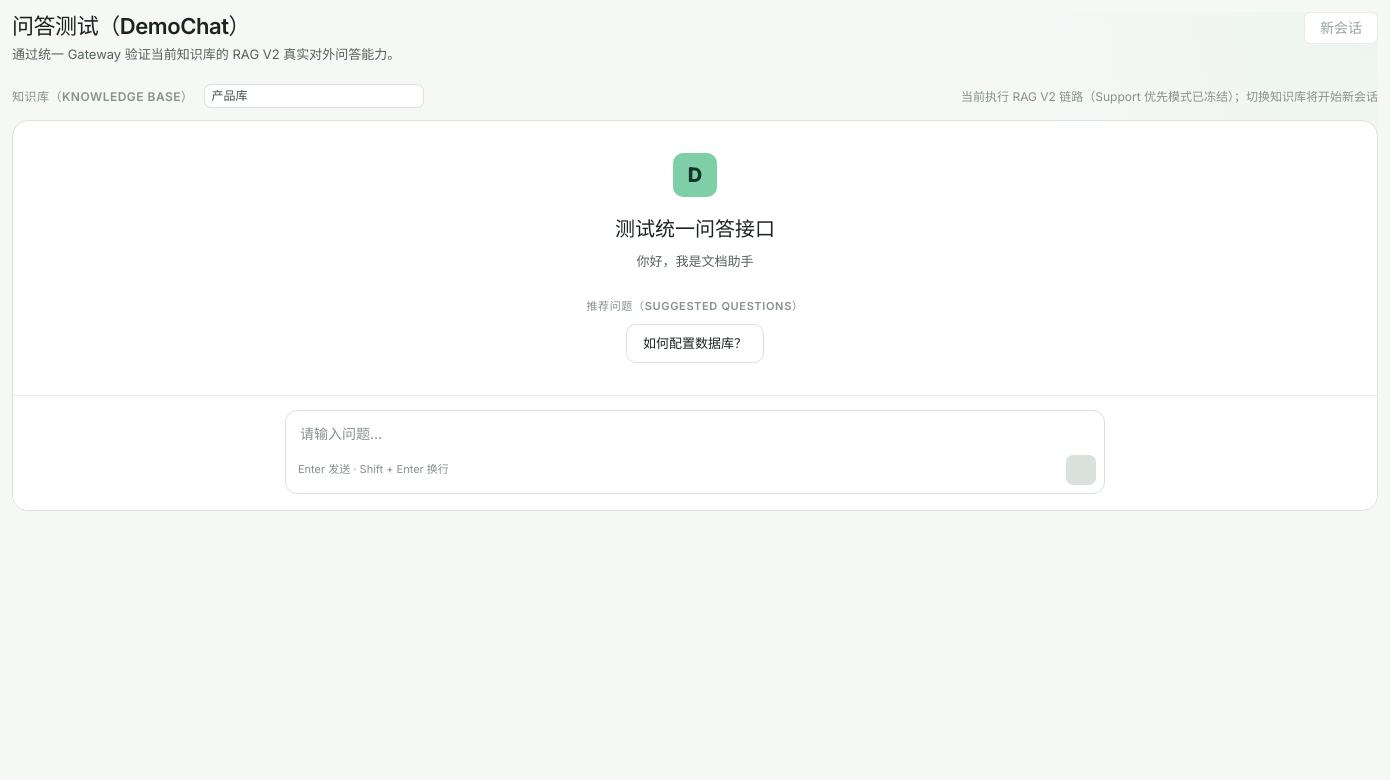
Test case: DemoChat › shows the actual engine and automatic fallback reason
In the text box with placeholder "请输入问题…": (695, 430) [286,411,1104,449], type "未知问题"
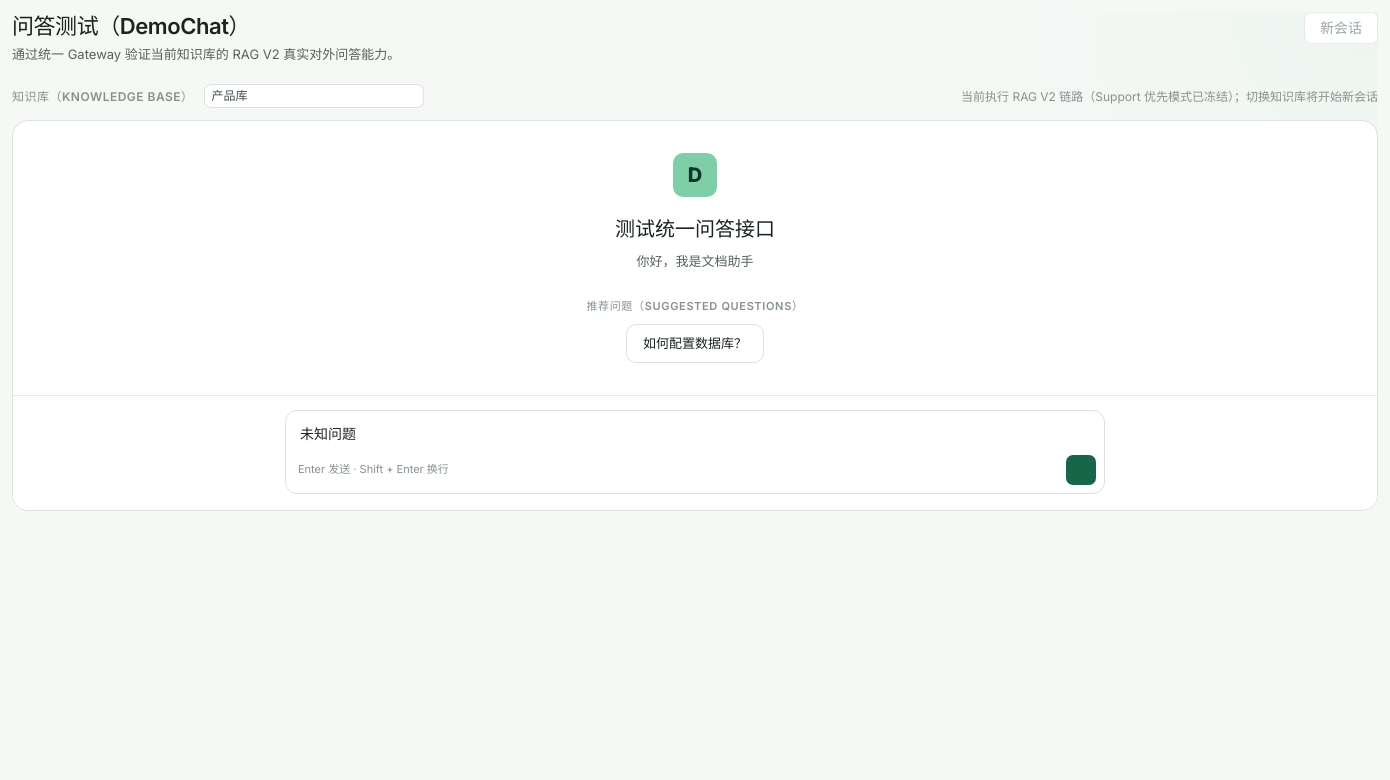
Press Enter in the text box, box [286,411,1104,449]
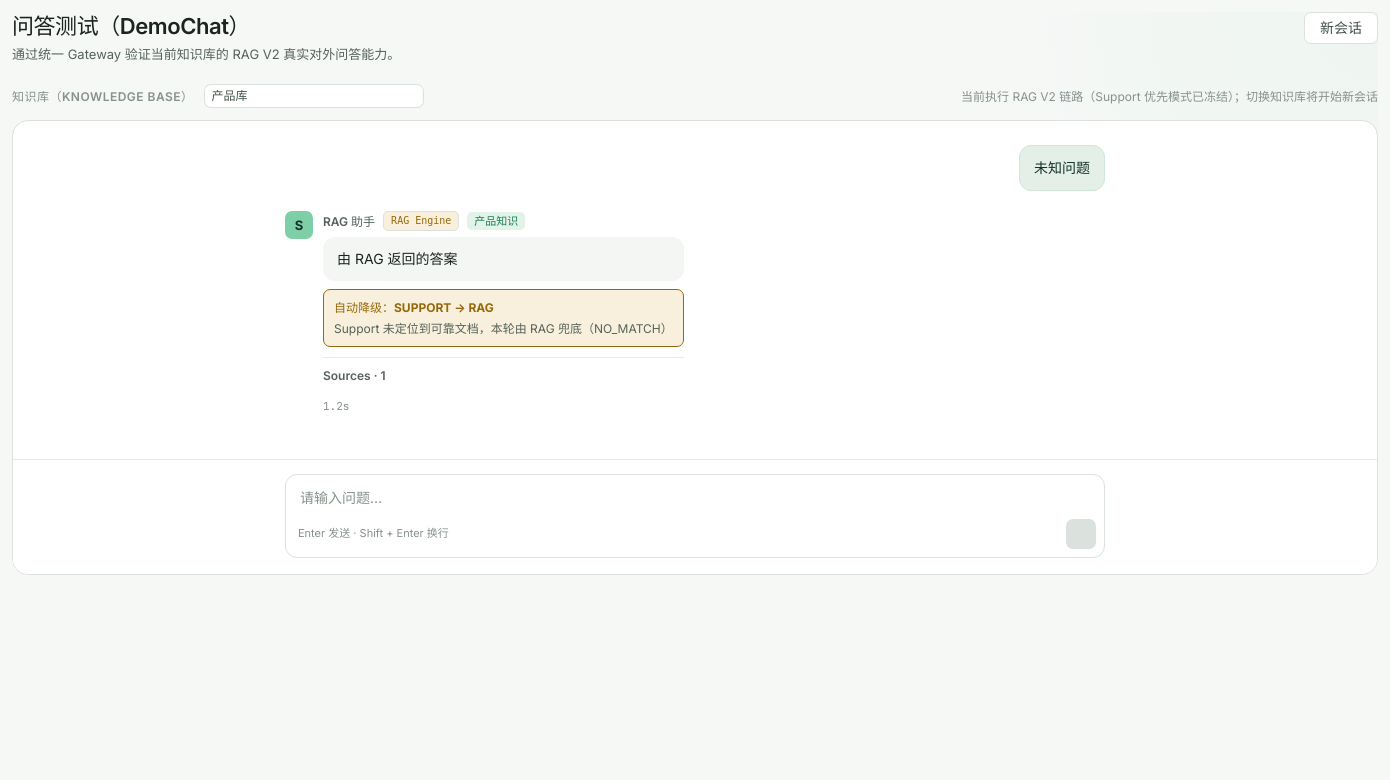
Now the text "RAG Engine" is shown, box [383,211,459,231]
Now the text "由 RAG 返回的答案" is shown, box [337,250,458,267]
Now the text "自动降级：SUPPORT → RAG" is shown, box [334,300,494,315]
